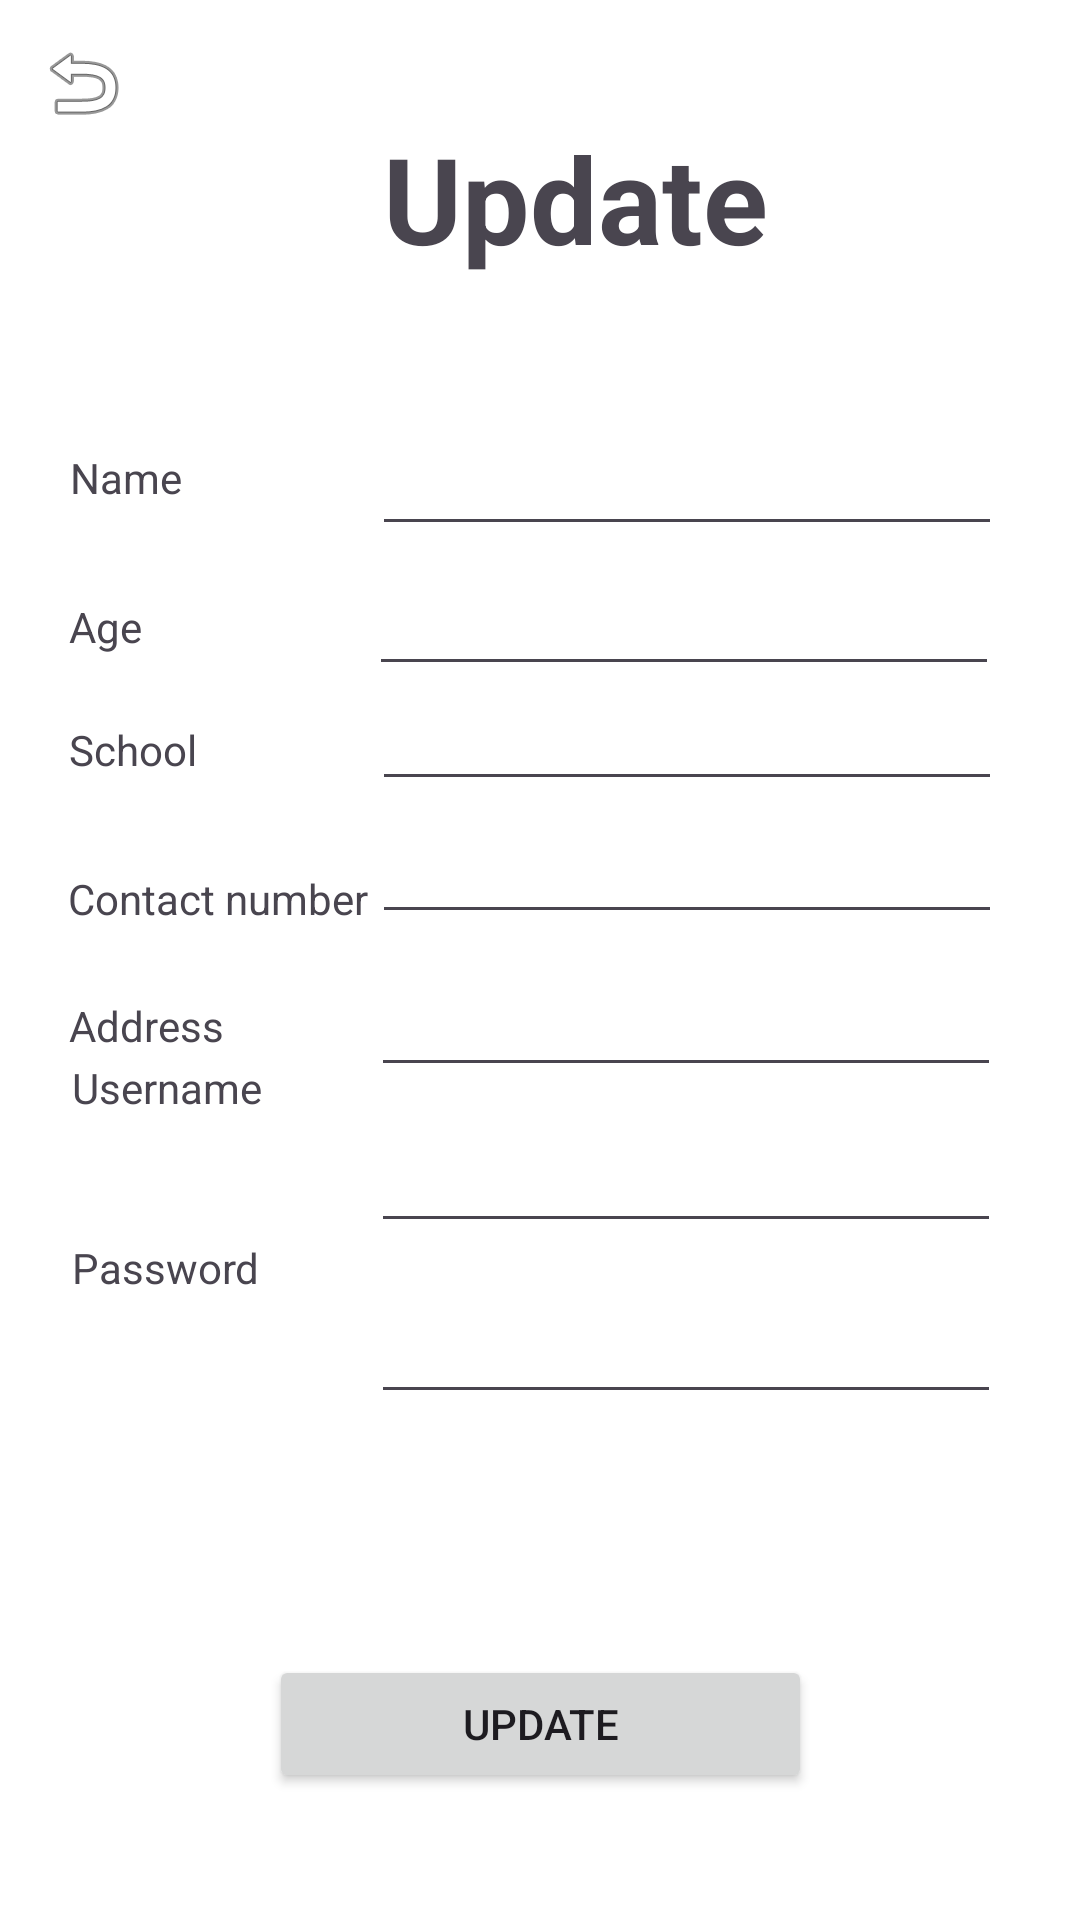

Icons on this 1080w x 1920h Android screen, each with the point to tap as (x,y):
revert: (84,83)
